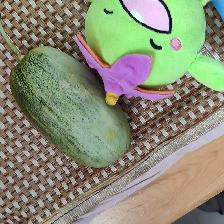gua: (36, 79, 98, 143)
